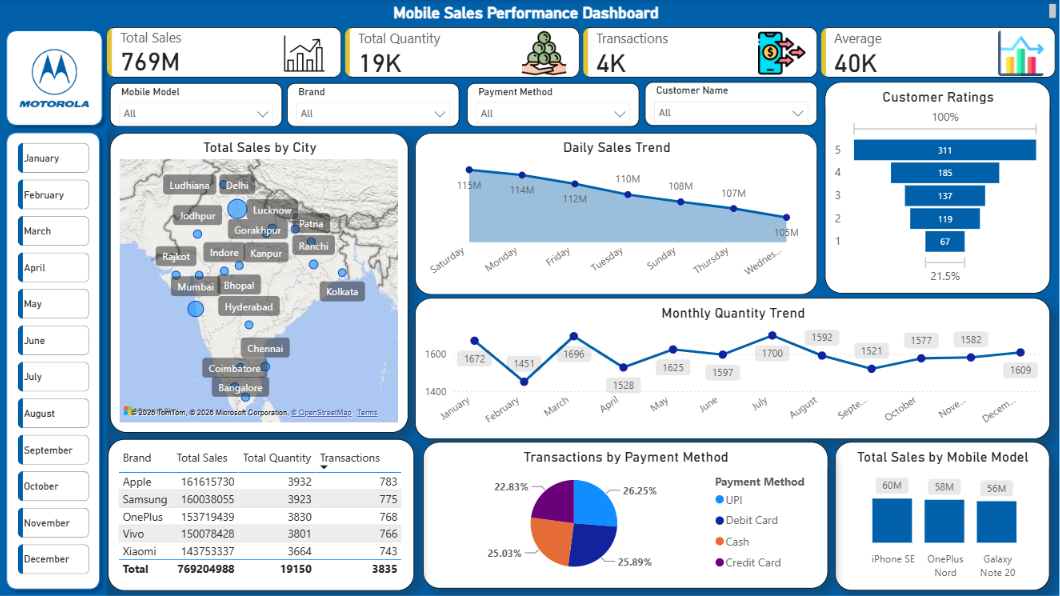

This screenshot's page, from the dashboard's own definition file:
{"tool":"powerbi","page":{"name":"Page 1","canvas":[1280,720],"ordinal":0},"visuals":[{"type":"shape","box":[0,27.7,133.9,132.7],"z":0},{"type":"shape","box":[0,151.3,130.8,569.2],"z":1000},{"type":"image","box":[14.5,51.9,105,84.5],"z":2000},{"type":"advancedSlicerVisual","fields":{"Values":["Mobile_Sales_Data.Date.Variation.Date Hierarchy.Month"]},"box":[17.9,167.9,96.2,534.6],"z":3000},{"type":"cardVisual","fields":{"Data":["Mobile_Sales_Data.Total Sales","Mobile_Sales_Data.Total Quantity","Mobile_Sales_Data.Transactions","Mobile_Sales_Data.Average"]},"box":[125.5,27.7,1154.6,71.2],"z":4000},{"type":"map","fields":{"Category":["Mobile_Sales_Data.City"],"Size":["Mobile_Sales_Data.Total Sales"]},"box":[133.3,160.3,360.3,361.5],"z":5000},{"type":"lineChart","title":"Monthly Quantity Trend","fields":{"Category":["Mobile_Sales_Data.Date.Variation.Date Hierarchy.Month","Mobile_Sales_Data.Date.Variation.Date Hierarchy.Day"],"Y":["Mobile_Sales_Data.Total Quantity"]},"box":[501.3,359,766.7,170.5],"z":6000},{"type":"clusteredColumnChart","fields":{"Y":["Mobile_Sales_Data.Total Sales"],"Category":["Mobile_Sales_Data.Mobile Model"]},"box":[1009,533.3,259,179.5],"z":7000},{"type":"pieChart","fields":{"Category":["Mobile_Sales_Data.Payment Method"],"Y":["Mobile_Sales_Data.Transactions"]},"box":[511.5,533.3,488.5,176.9],"z":8000},{"type":"funnel","title":"Customer Ratings","fields":{"Category":["Mobile_Sales_Data.Customer Ratings"],"Y":["CountNonNull(Mobile_Sales_Data.Customer Ratings)"]},"box":[996.2,98.7,271.8,255.1],"z":9000},{"type":"areaChart","title":"Daily Sales Trend","fields":{"Y":["Mobile_Sales_Data.Total Sales"],"Category":["Mobile_Sales_Data.Day Name"]},"box":[501.3,160.3,485.9,194.9],"z":10000},{"type":"tableEx","fields":{"Values":["Mobile_Sales_Data.Brand","Mobile_Sales_Data.Total Sales","Mobile_Sales_Data.Total Quantity","Mobile_Sales_Data.Transactions"]},"box":[132.1,529.5,369.2,183.3],"z":11000},{"type":"slicer","fields":{"Values":["Mobile_Sales_Data.Customer Name"]},"box":[779.5,98.7,207.7,52.6],"z":12000},{"type":"slicer","fields":{"Values":["Mobile_Sales_Data.Payment Method"]},"box":[564.1,100,207.7,52.6],"z":13000},{"type":"slicer","fields":{"Values":["Mobile_Sales_Data.Brand"]},"box":[347.4,100,207.7,52.6],"z":14000},{"type":"slicer","fields":{"Values":["Mobile_Sales_Data.Mobile Model"]},"box":[133.3,100,207.7,52.6],"z":15000},{"type":"textbox","box":[0,0,1280,27.7],"z":15001}]}

Visuals, with their boxes in screenshot pixels (x1, y1, x2, y2), scaled from the page's 1280x720 canvas onto the 1060x596 screenshot:
shape: locate(0, 23, 111, 133)
shape: locate(0, 125, 108, 595)
image: locate(12, 43, 99, 113)
advancedSlicerVisual - Mobile_Sales_Data.Date.Variation.Date Hierarchy.Month: locate(15, 139, 94, 582)
cardVisual - Mobile_Sales_Data.Total Sales x Mobile_Sales_Data.Total Quantity: locate(104, 23, 1059, 82)
map - Mobile_Sales_Data.City x Mobile_Sales_Data.Total Sales: locate(110, 133, 409, 432)
"Monthly Quantity Trend" lineChart: locate(415, 297, 1050, 438)
clusteredColumnChart - Mobile_Sales_Data.Total Sales x Mobile_Sales_Data.Mobile Model: locate(836, 441, 1050, 590)
pieChart - Mobile_Sales_Data.Payment Method x Mobile_Sales_Data.Transactions: locate(424, 441, 828, 588)
"Customer Ratings" funnel: locate(825, 82, 1050, 293)
"Daily Sales Trend" areaChart: locate(415, 133, 818, 294)
tableEx - Mobile_Sales_Data.Brand x Mobile_Sales_Data.Total Sales: locate(109, 438, 415, 590)
slicer - Mobile_Sales_Data.Customer Name: locate(646, 82, 818, 125)
slicer - Mobile_Sales_Data.Payment Method: locate(467, 83, 639, 126)
slicer - Mobile_Sales_Data.Brand: locate(288, 83, 460, 126)
slicer - Mobile_Sales_Data.Mobile Model: locate(110, 83, 282, 126)
textbox: locate(0, 0, 1059, 23)
